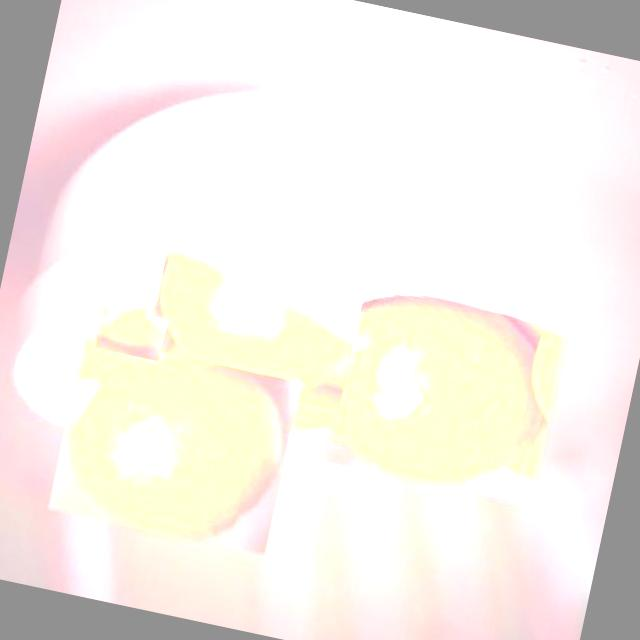Orange: (298, 277, 568, 505), (48, 336, 302, 554), (142, 248, 364, 410)
